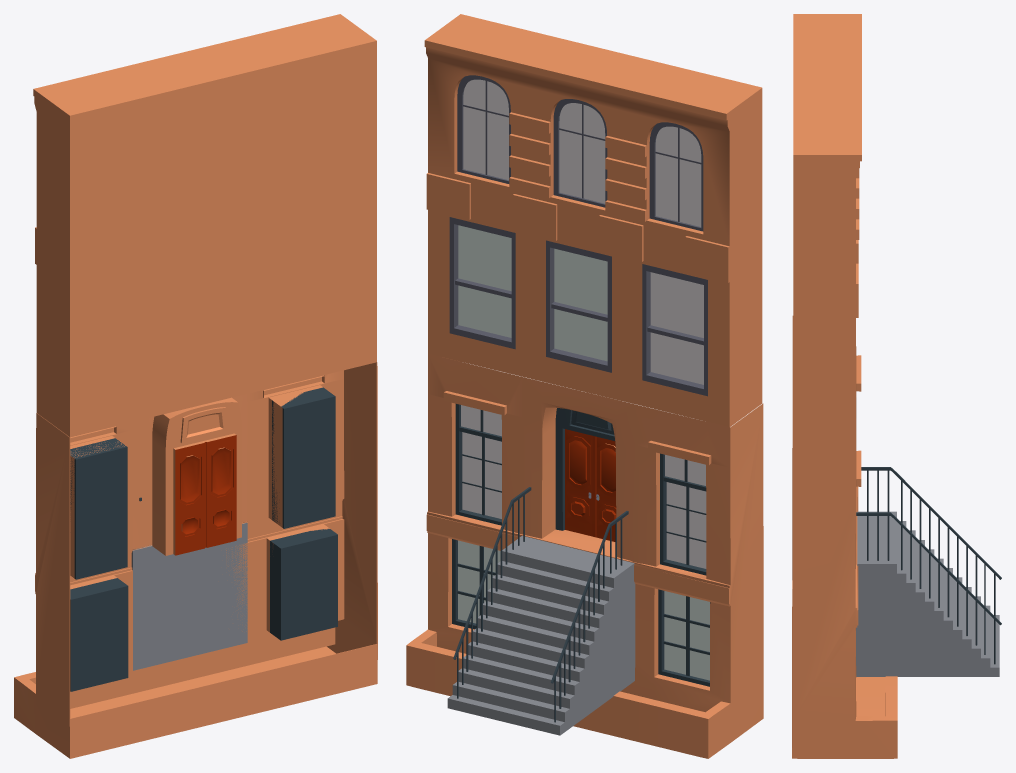
3 renders of one model, left to right at view 1: azimuth 30°, elevation 25°; view 2: azimuth 150°, elevation 25°; view 3: azimuth 270°, elevation 25°, orthographic. The views are drawn at different scales.
Parts seen in each view (by area): view 1: Etage005; view 2: Etage005; view 3: Etage005.
Boxes of the visible parts, x1,y1,x2,y2 form: Etage005: [14, 14, 377, 758]; Etage005: [406, 14, 763, 758]; Etage005: [792, 14, 1001, 758].
Size of the model in its own units: 316 by 630 by 198.
